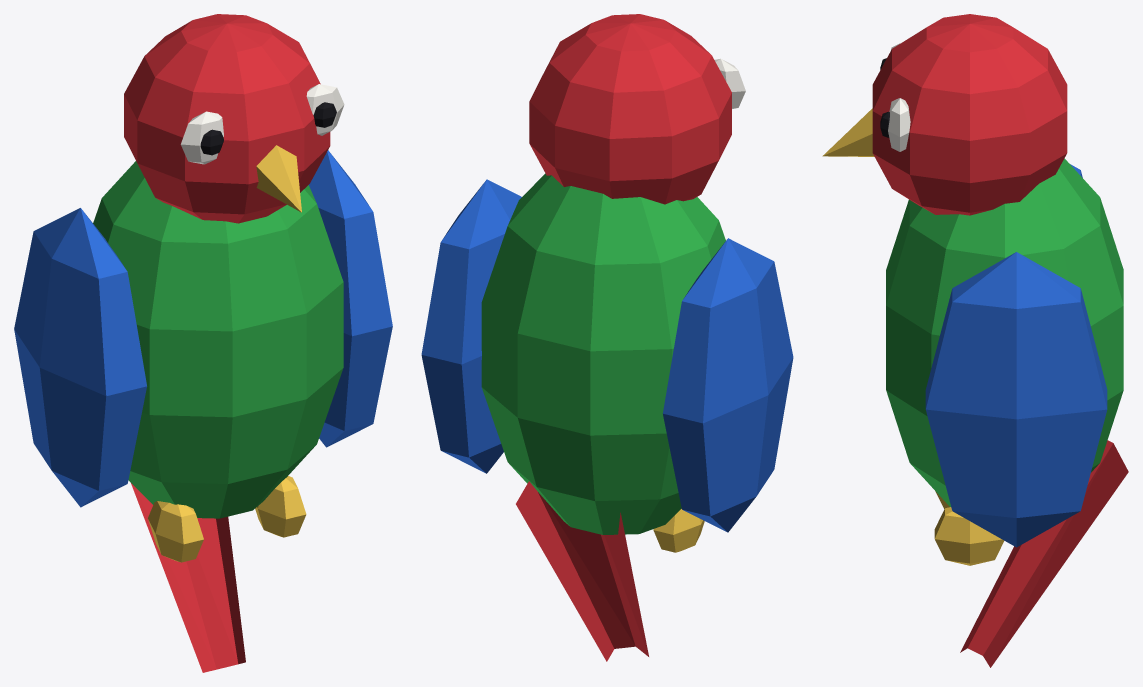
The model's file is npc_pico.glb.
3 views of the same model, side by side, from view 1: azimuth 30°, elevation 25°; view 2: azimuth 150°, elevation 25°; view 3: azimuth 270°, elevation 25° (orthographic).
Parts seen in each view (by area): view 1: body_parrot_green, body_parrot_wing (×2), head_parrot_red, body_parrot_red, body_parrot_beak, face_white, head_parrot_beak, face_black; view 2: body_parrot_green, body_parrot_wing (×2), head_parrot_red, body_parrot_red, body_parrot_beak, face_white; view 3: body_parrot_wing, head_parrot_red, body_parrot_green, body_parrot_red, body_parrot_beak, head_parrot_beak, face_white.
Part boxes in pixels (x1,y1,x2,y2): body_parrot_green: (93, 161, 343, 518); body_parrot_wing (×2): (14, 150, 392, 507); head_parrot_red: (124, 14, 330, 223); body_parrot_red: (131, 483, 245, 672); body_parrot_beak: (148, 476, 306, 562); face_white: (180, 84, 344, 164); head_parrot_beak: (256, 145, 301, 212); face_black: (200, 102, 336, 155); body_parrot_green: (481, 173, 725, 534); body_parrot_wing (×2): (421, 179, 793, 532); head_parrot_red: (529, 14, 731, 204); body_parrot_red: (516, 481, 648, 661); body_parrot_beak: (653, 509, 704, 552); face_white: (714, 58, 745, 108); body_parrot_wing: (925, 252, 1107, 547); head_parrot_red: (872, 14, 1067, 215); body_parrot_green: (886, 158, 1123, 506); body_parrot_red: (960, 440, 1128, 667); body_parrot_beak: (934, 491, 1003, 565); head_parrot_beak: (822, 108, 874, 156); face_white: (888, 43, 910, 151).
Size of the model in its own units: 0.32 by 0.6103 by 0.2632.
